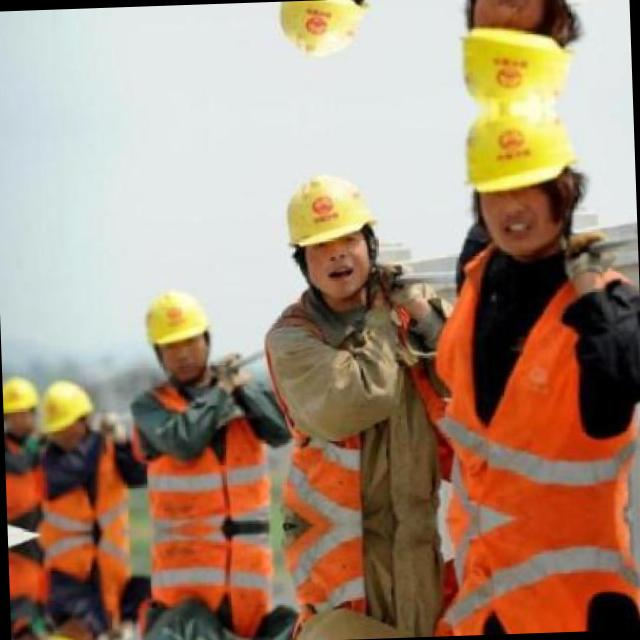helmet: (445, 104, 595, 273), (270, 146, 392, 314), (440, 0, 590, 110), (264, 0, 385, 81), (133, 271, 214, 388), (34, 375, 95, 446), (2, 368, 42, 441), (43, 617, 104, 640), (10, 626, 49, 640)
